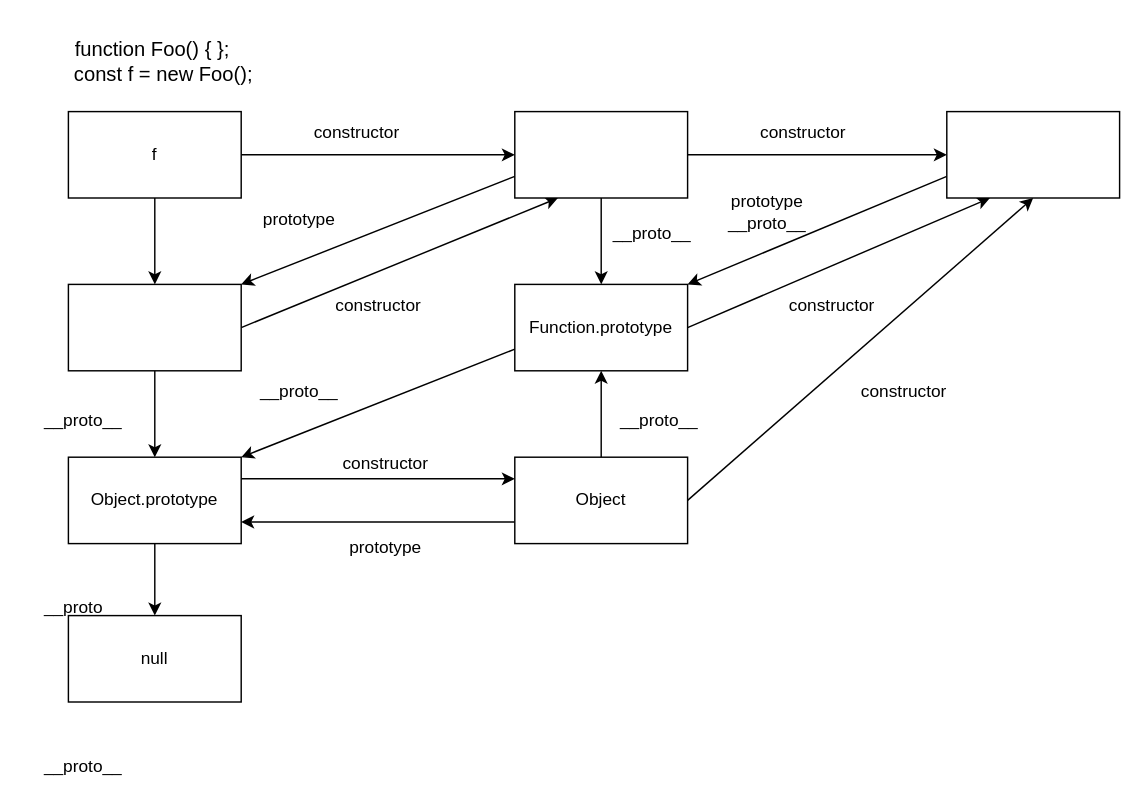
Image size: 1145x812. Some labels were removed from this diagram. Each missing label, with the box of its shape:
Foo: (513, 110, 688, 198)
Foo.prototype: (67, 283, 241, 371)
Function: (945, 110, 1120, 198)
